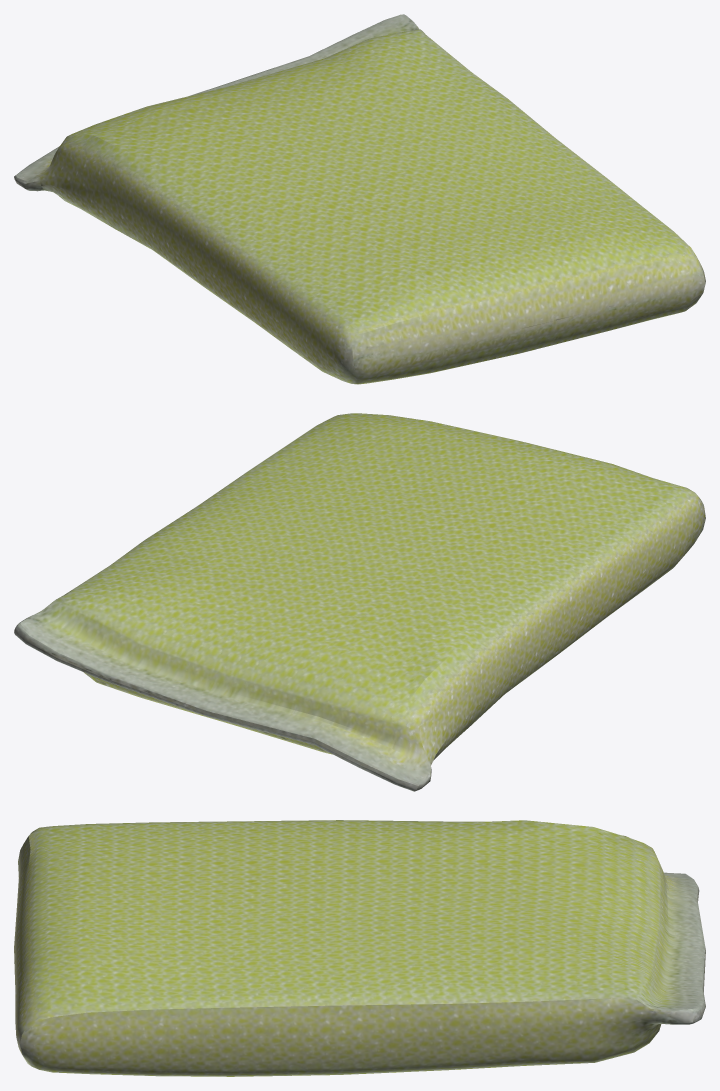
Rendered from 026_sponge.dae.
3 renders of one model, top to bottom at view 1: azimuth 30°, elevation 25°; view 2: azimuth 150°, elevation 25°; view 3: azimuth 270°, elevation 25°, orthographic. The views are drawn at different scales.
Parts seen in each view (by area): view 1: 026_sponge; view 2: 026_sponge; view 3: 026_sponge.
Boxes of the visible parts, box(x1,y1,x2,y2) form: 026_sponge: box(14, 14, 705, 384); 026_sponge: box(14, 413, 705, 791); 026_sponge: box(14, 820, 705, 1076).
Bounding box in the file's own units: 0.0787 × 0.1106 × 0.018.
1 material, 1 textured.
